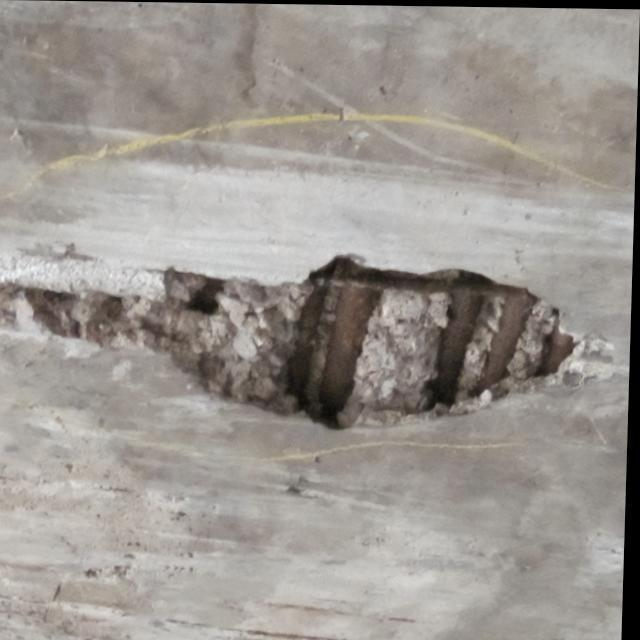D10: (6, 258, 581, 428)
